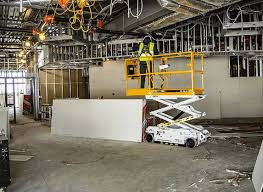Scissor Lift: (124, 50, 211, 149)
